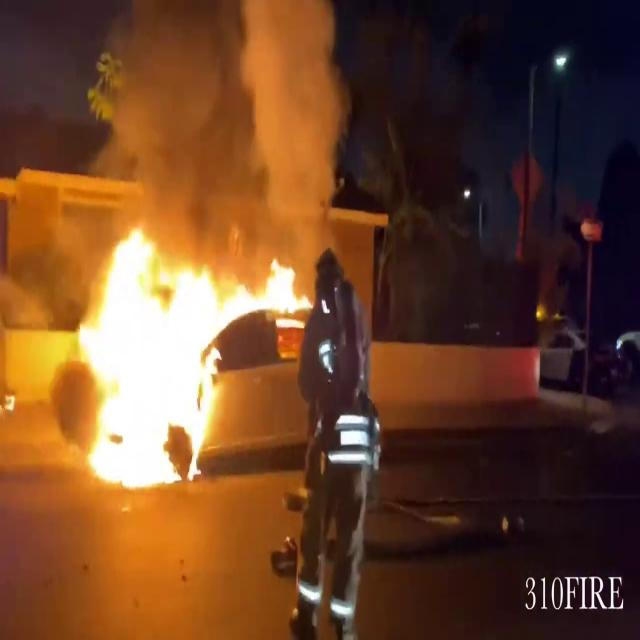Fire: (48, 216, 318, 493)
Smoke: (68, 0, 358, 246)
